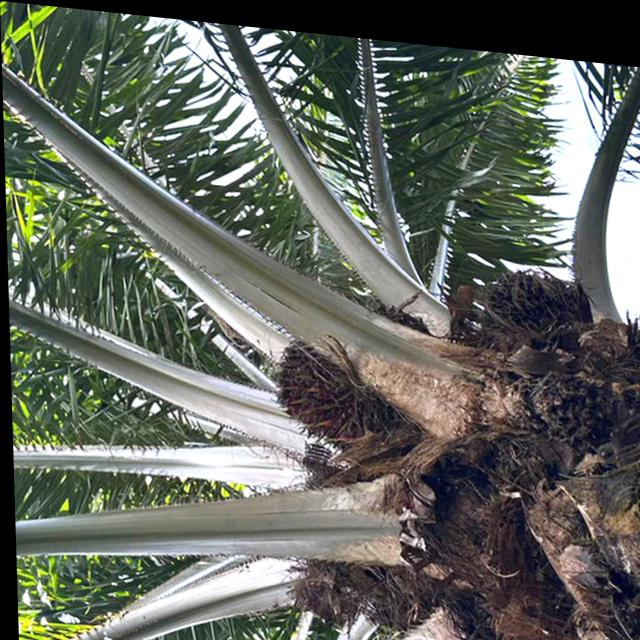ripe: (257, 315, 407, 447)
